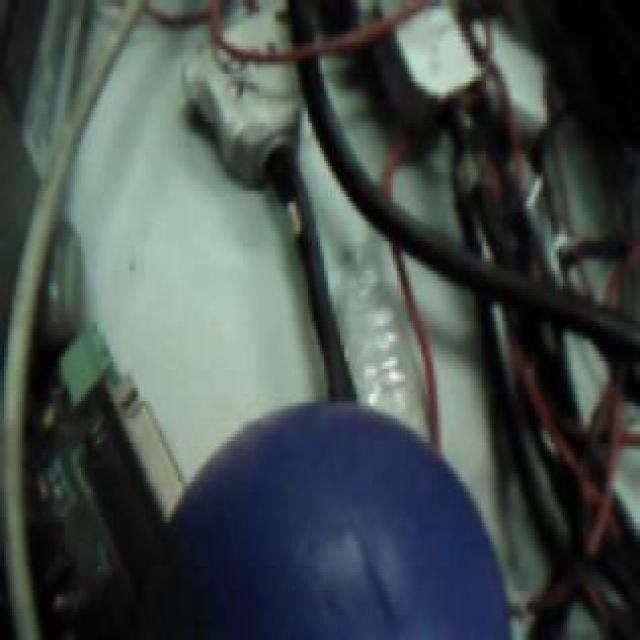BallPurple: (168, 400, 510, 640)
